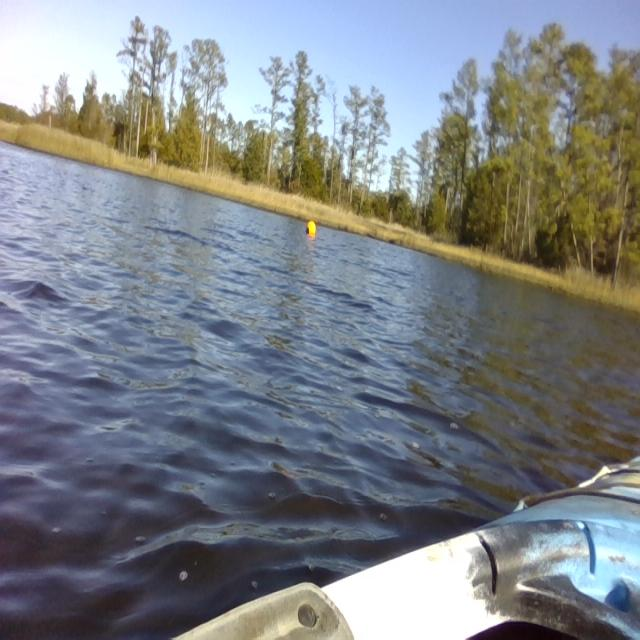Buoy: (304, 216, 318, 239)
